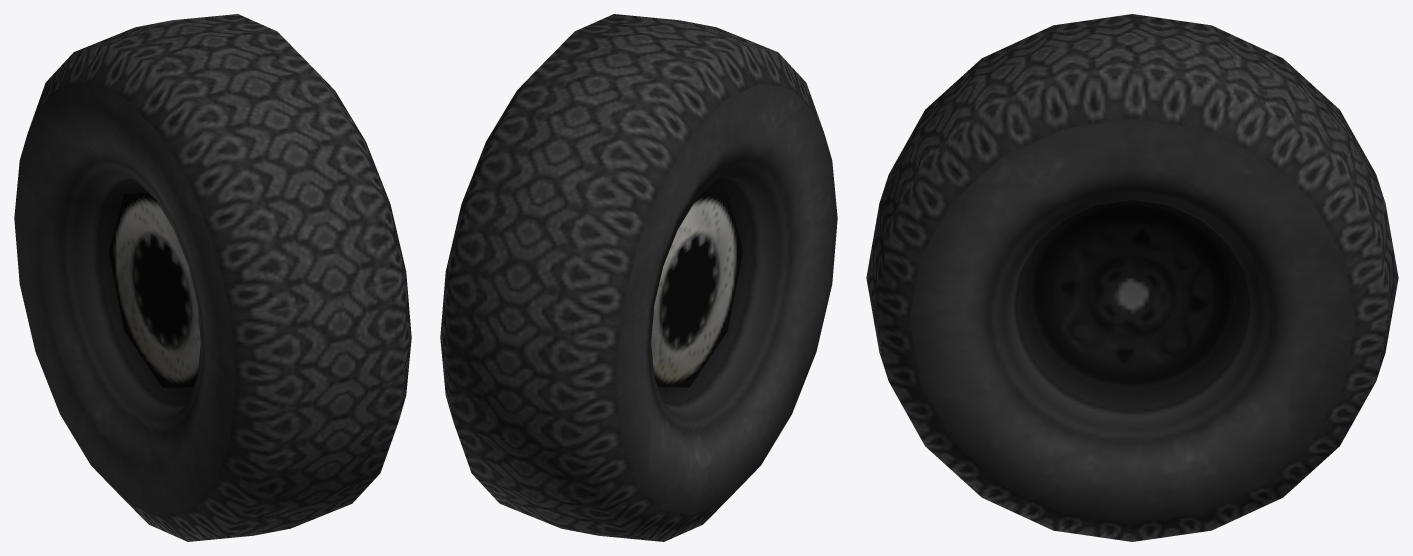
The model's file is polaris_rear_wheel_right.dae.
The picture shows the model from 3 angles, left to right: view 1: azimuth 30°, elevation 25°; view 2: azimuth 150°, elevation 25°; view 3: azimuth 270°, elevation 25°; orthographic projection.
Parts seen in each view (by area): view 1: Rear_Wheel_Right; view 2: Rear_Wheel_Right; view 3: Rear_Wheel_Right.
Part boxes in pixels (x1,y1,x2,y2): Rear_Wheel_Right: (14, 14, 411, 541); Rear_Wheel_Right: (440, 14, 837, 541); Rear_Wheel_Right: (866, 14, 1398, 541).
Size of the model in its own units: 10.03 by 25.77 by 25.77.
1 material, 1 textured.
